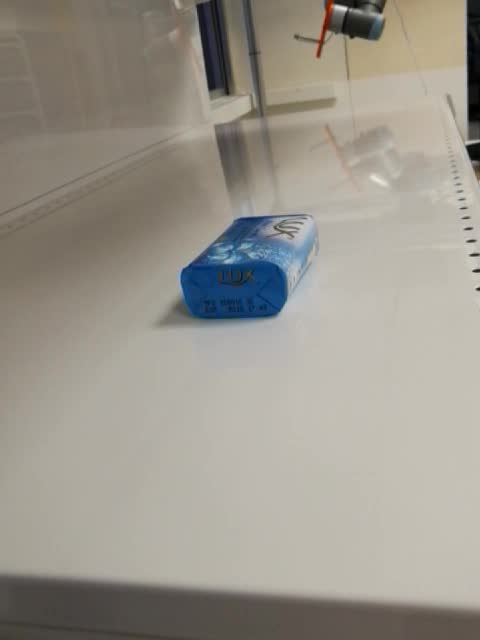soap: (179, 212, 320, 320)
